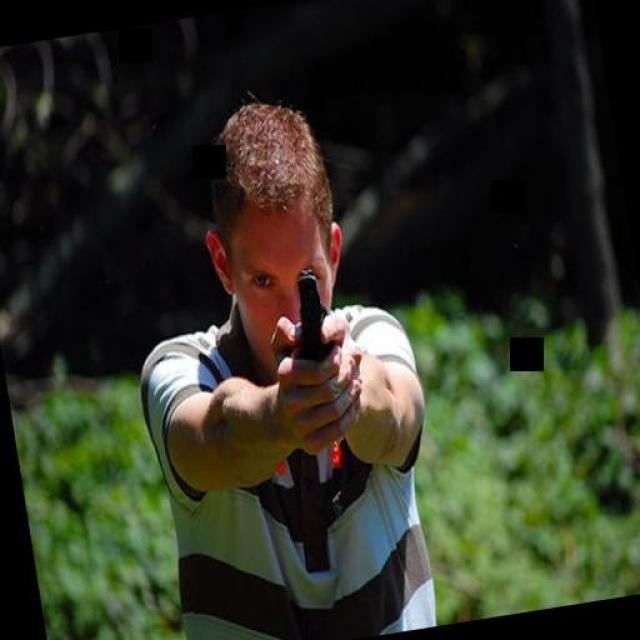gun: (289, 262, 335, 368)
